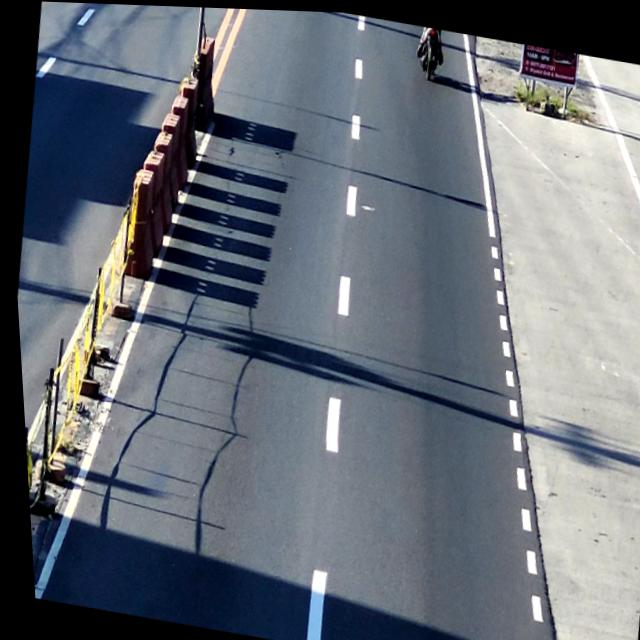Motorcycle: (414, 23, 449, 75)
